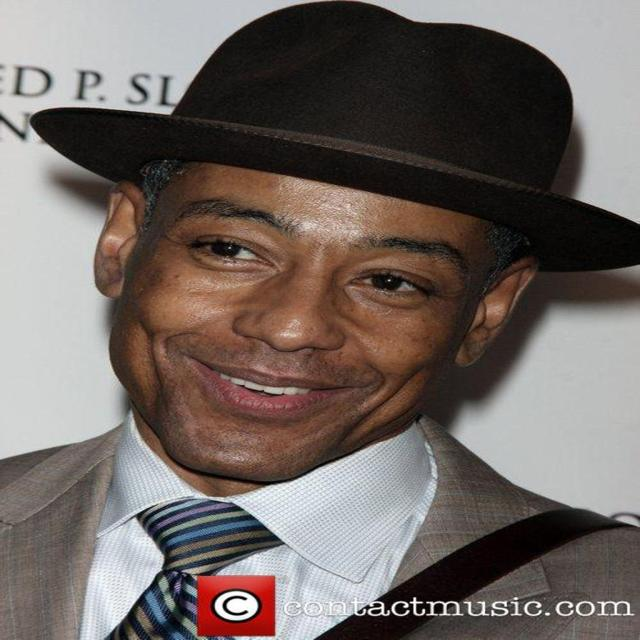Face: (104, 158, 477, 502)
